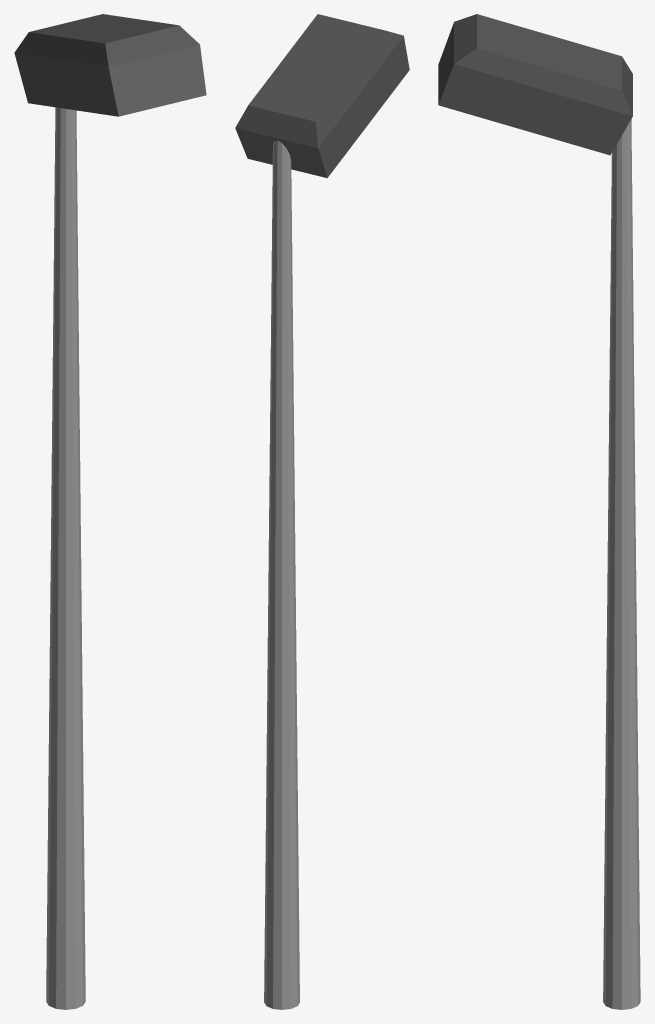
Rendered from Lamp1.fbx.
3 renders of one model, left to right at view 1: azimuth 30°, elevation 25°; view 2: azimuth 150°, elevation 25°; view 3: azimuth 270°, elevation 25°, orthographic. The views are drawn at different scales.
Parts seen in each view (by area): view 1: Object; view 2: Object; view 3: Object.
Boxes of the visible parts, x1=… form: Object: x1=14, y1=14, x2=206, y2=1009; Object: x1=235, y1=14, x2=409, y2=1009; Object: x1=438, y1=14, x2=640, y2=1009.
Bounding box in the file's own units: 80 × 855 × 162.
